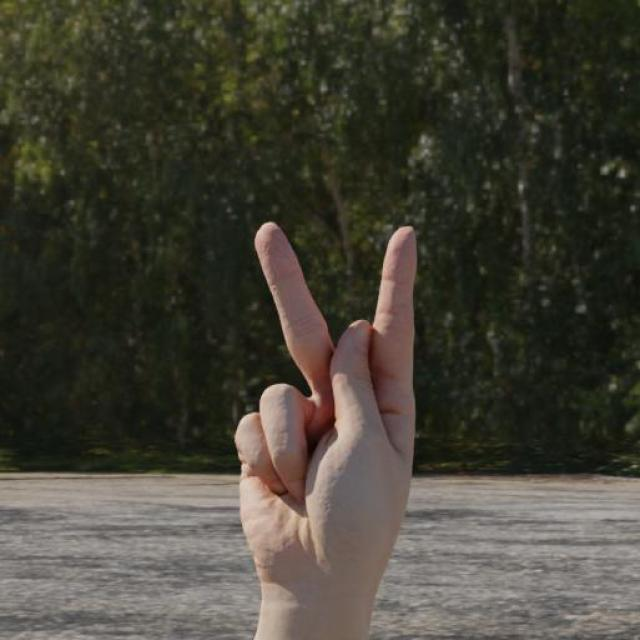K: (230, 220, 422, 590)
